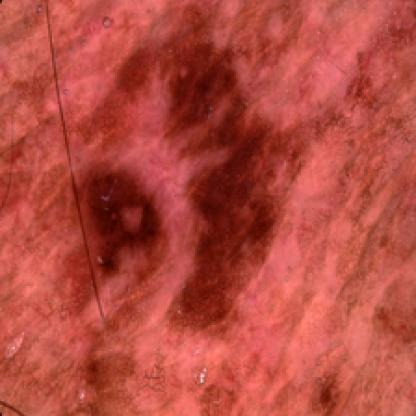malignant: (149, 43, 299, 214)
